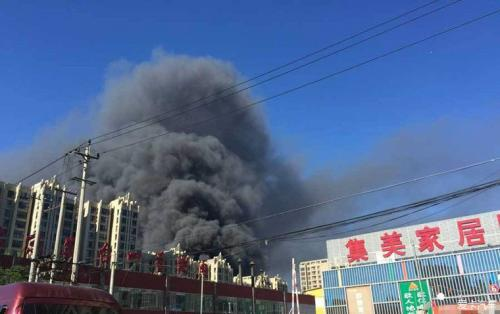smoke: (97, 52, 290, 255)
